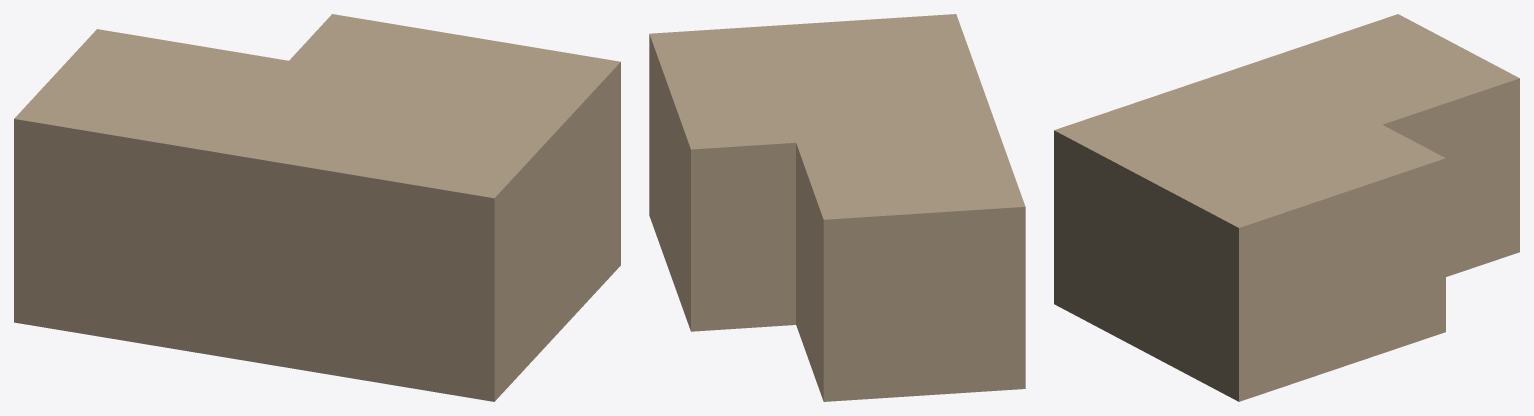
File: bld_99589039.dae
3 views of the same model, side by side, from view 1: azimuth 30°, elevation 25°; view 2: azimuth 150°, elevation 25°; view 3: azimuth 270°, elevation 25° (orthographic). The views are drawn at different scales.
Visible parts, largest first — view 1: bld_99589039; view 2: bld_99589039; view 3: bld_99589039.
Part boxes in pixels (x1,y1,x2,y2): bld_99589039: (14, 14, 620, 401); bld_99589039: (649, 14, 1025, 401); bld_99589039: (1054, 14, 1519, 401).
Bounding box in the file's own units: 21.12 × 19.43 × 8.
